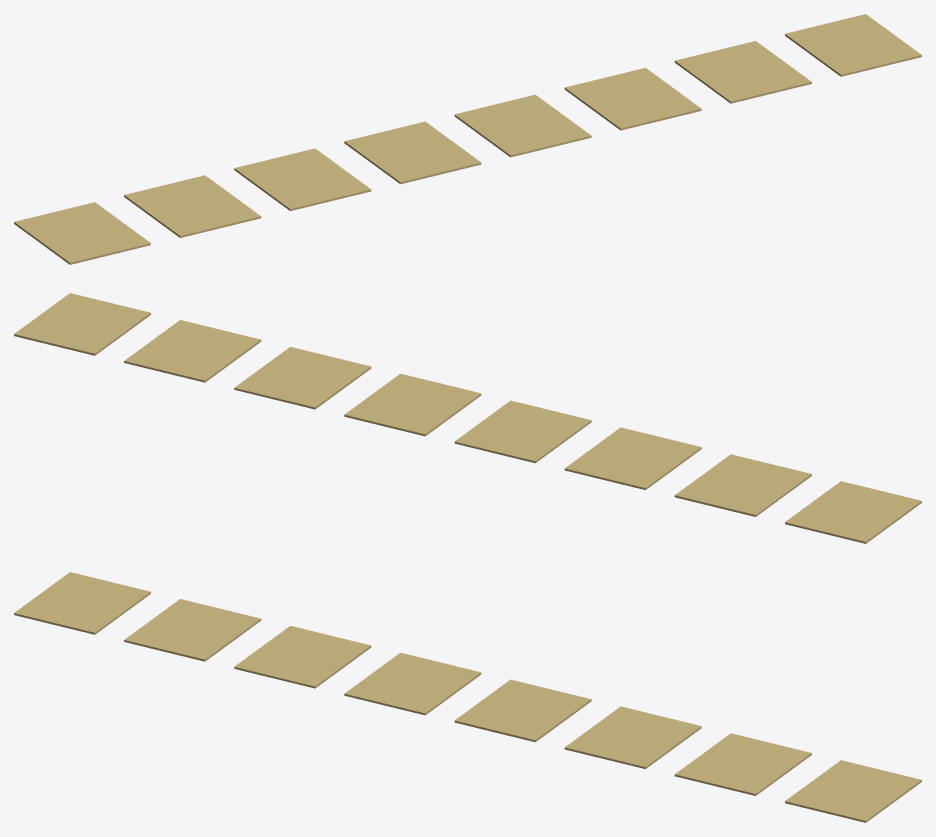
File: 188_L112_EMCTestPad_2.glb
The picture shows the model from 3 angles, top to bottom: view 1: azimuth 30°, elevation 25°; view 2: azimuth 150°, elevation 25°; view 3: azimuth 330°, elevation 25°; orthographic projection.
Parts seen in each view (by area): view 1: part003__PSMAT__Gold_ENIG, part004__PSMAT__Gold_ENIG, part000__PSMAT__Gold_ENIG, part002__PSMAT__Gold_ENIG, part005__PSMAT__Gold_ENIG, part007__PSMAT__Gold_ENIG, part001__PSMAT__Gold_ENIG, part006__PSMAT__Gold_ENIG; view 2: part003__PSMAT__Gold_ENIG, part004__PSMAT__Gold_ENIG, part000__PSMAT__Gold_ENIG, part002__PSMAT__Gold_ENIG, part005__PSMAT__Gold_ENIG, part007__PSMAT__Gold_ENIG, part001__PSMAT__Gold_ENIG, part006__PSMAT__Gold_ENIG; view 3: part003__PSMAT__Gold_ENIG, part004__PSMAT__Gold_ENIG, part000__PSMAT__Gold_ENIG, part002__PSMAT__Gold_ENIG, part005__PSMAT__Gold_ENIG, part007__PSMAT__Gold_ENIG, part001__PSMAT__Gold_ENIG, part006__PSMAT__Gold_ENIG.
Part boxes in pixels (x1,y1,x2,y2): part003__PSMAT__Gold_ENIG: (344, 121, 481, 184); part004__PSMAT__Gold_ENIG: (454, 94, 591, 157); part000__PSMAT__Gold_ENIG: (14, 202, 150, 264); part002__PSMAT__Gold_ENIG: (234, 148, 371, 210); part005__PSMAT__Gold_ENIG: (564, 68, 701, 130); part007__PSMAT__Gold_ENIG: (785, 14, 921, 76); part001__PSMAT__Gold_ENIG: (124, 175, 261, 237); part006__PSMAT__Gold_ENIG: (674, 41, 811, 103); part003__PSMAT__Gold_ENIG: (454, 400, 591, 463); part004__PSMAT__Gold_ENIG: (344, 373, 481, 436); part000__PSMAT__Gold_ENIG: (785, 481, 921, 543); part002__PSMAT__Gold_ENIG: (564, 427, 701, 489); part005__PSMAT__Gold_ENIG: (234, 347, 371, 409); part007__PSMAT__Gold_ENIG: (14, 293, 150, 355); part001__PSMAT__Gold_ENIG: (674, 454, 811, 516); part006__PSMAT__Gold_ENIG: (124, 320, 261, 382); part003__PSMAT__Gold_ENIG: (344, 652, 481, 715); part004__PSMAT__Gold_ENIG: (454, 679, 591, 742); part000__PSMAT__Gold_ENIG: (14, 572, 150, 634); part002__PSMAT__Gold_ENIG: (234, 626, 371, 688); part005__PSMAT__Gold_ENIG: (564, 706, 701, 768); part007__PSMAT__Gold_ENIG: (785, 760, 921, 822); part001__PSMAT__Gold_ENIG: (124, 599, 261, 661); part006__PSMAT__Gold_ENIG: (674, 733, 811, 795).
Bounding box in the file's own units: 0.0263 × 6e-05 × 0.003.
